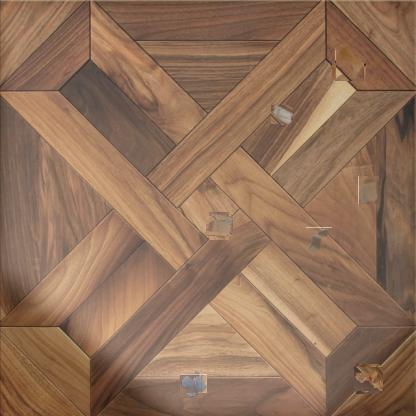dirty: (306, 227, 332, 256), (355, 366, 381, 392), (207, 214, 232, 238), (358, 176, 379, 204), (271, 104, 293, 124)
liquid: (334, 48, 366, 80), (182, 372, 205, 396)
